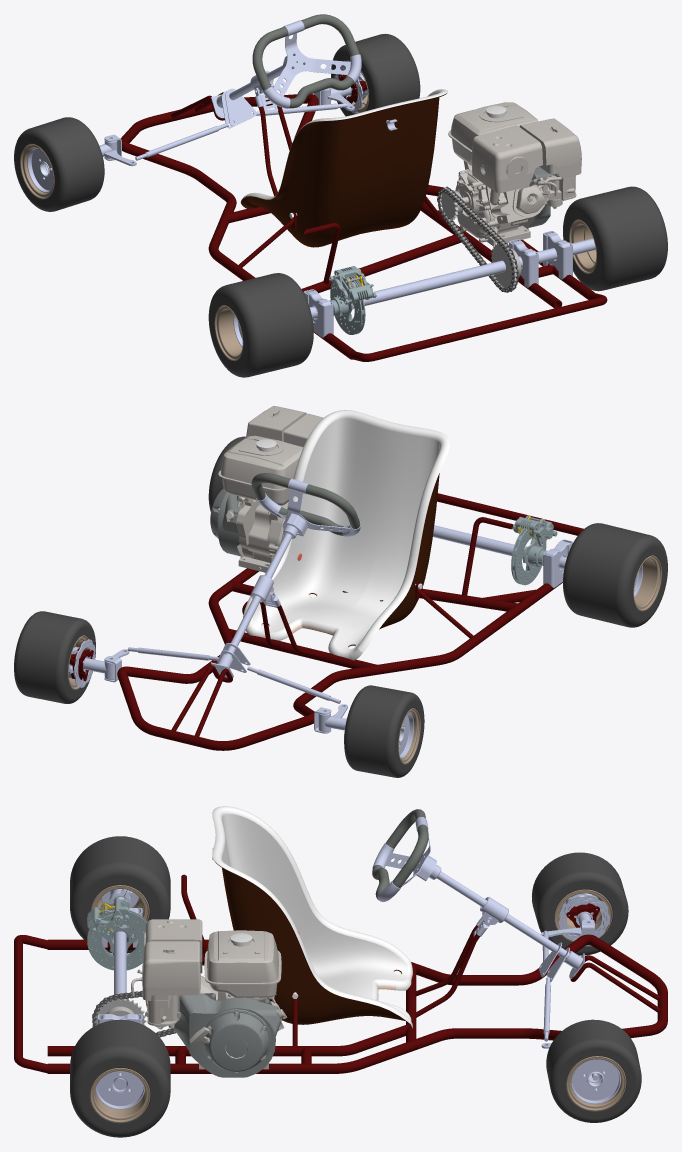
The model's file is gokart.fbx.
The picture shows the model from 3 angles, top to bottom: view 1: azimuth 30°, elevation 25°; view 2: azimuth 150°, elevation 25°; view 3: azimuth 270°, elevation 25°; orthographic projection. The views are drawn at different scales.
Visible parts, largest first — view 1: NONE (×7), Pipe 26.9 X 3.2(13)[1], Boss-Extrude1, Sweep1, Cut-Extrude2 (×3), E866, Cut-Extrude4, CirPattern1, Brake Assembly.stp[1], Brake Assembly.stp[5], Fillet2, Cut-Extrude1 (+1 smaller); view 2: NONE (×7), Pipe 26.9 X 3.2(13)[1], Sweep1, Boss-Extrude1, M5 Tapped Hole1, Brake Assembly.stp[1], Cut-Extrude4, Cut-Extrude2, Revolve1; view 3: NONE (×7), Pipe 26.9 X 3.2(13)[1], CirPattern1 (×2), Sweep1, Brake Assembly.stp[1], M5 Tapped Hole1, Boss-Extrude1, CirPattern3, Brake Assembly.stp[7], Cut-Extrude1, Chamfer2.
Part boxes in pixels (box(x1,y1,x2,y2)): NONE (×7): box(14, 33, 667, 377); Pipe 26.9 X 3.2(13)[1]: box(120, 92, 607, 361); Boss-Extrude1: box(309, 238, 595, 318); Sweep1: box(252, 14, 359, 108); Cut-Extrude2 (×3): box(303, 231, 572, 337); E866: box(437, 186, 518, 292); Cut-Extrude4: box(273, 33, 350, 96); CirPattern1: box(27, 147, 53, 192); Brake Assembly.stp[1]: box(330, 276, 365, 334); Brake Assembly.stp[5]: box(329, 268, 362, 304); Fillet2: box(225, 88, 256, 126); Cut-Extrude1: box(491, 242, 521, 288); NONE (×7): box(14, 406, 667, 777); Pipe 26.9 X 3.2(13)[1]: box(117, 493, 583, 750); Sweep1: box(251, 473, 360, 535); Boss-Extrude1: box(433, 525, 566, 568); M5 Tapped Hole1: box(225, 533, 292, 657); Brake Assembly.stp[1]: box(511, 528, 546, 585); Cut-Extrude4: box(265, 489, 350, 532); Cut-Extrude2: box(543, 539, 572, 587); Revolve1: box(247, 666, 340, 703); NONE (×7): box(70, 806, 641, 1137); Pipe 26.9 X 3.2(13)[1]: box(14, 874, 667, 1073); CirPattern1 (×2): box(95, 1059, 620, 1109); Sweep1: box(372, 809, 428, 900); Brake Assembly.stp[1]: box(87, 909, 146, 970); M5 Tapped Hole1: box(437, 871, 569, 959); Boss-Extrude1: box(114, 897, 126, 1089); CirPattern3: box(558, 895, 610, 940); Brake Assembly.stp[7]: box(87, 904, 129, 934); Cut-Extrude1: box(94, 998, 146, 1025); Chamfer2: box(480, 897, 508, 924).
Size of the model in its own units: 1226 by 558 by 1560.
